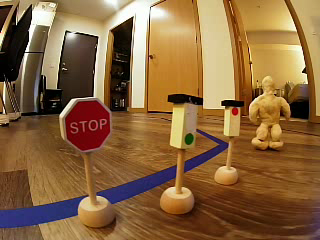Red traffic light: (216, 83, 248, 142)
green traffic light: (160, 81, 208, 152)
person: (251, 67, 296, 152)
stop: (55, 90, 120, 156)
